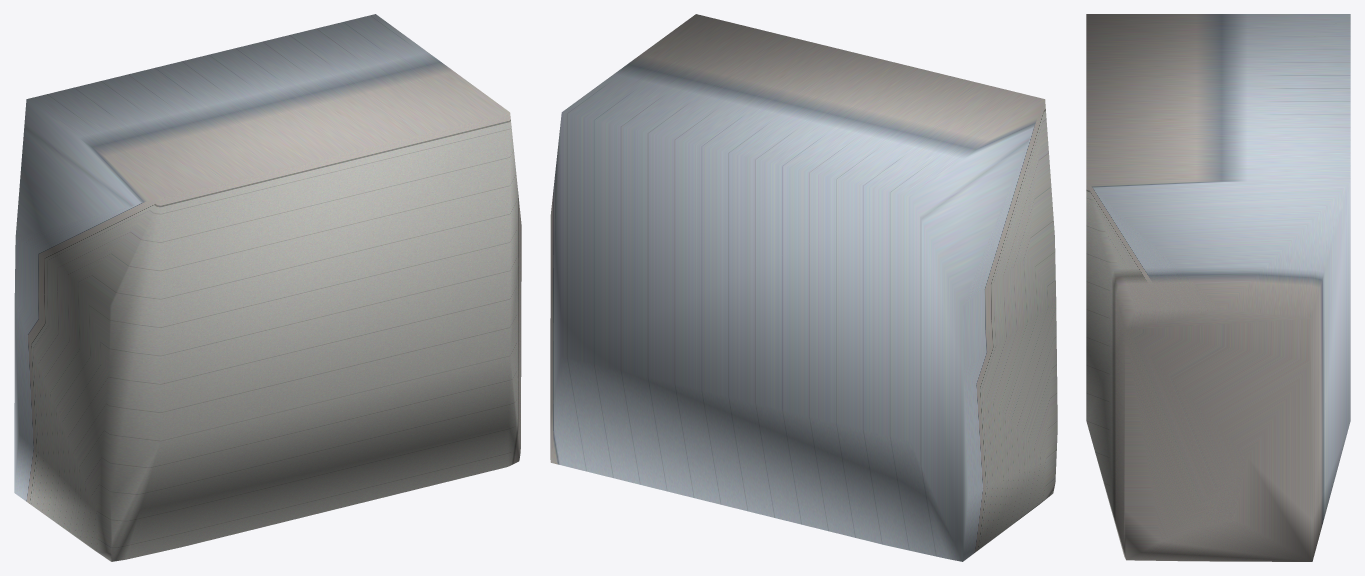
3 renders of one model, left to right at view 1: azimuth 30°, elevation 25°; view 2: azimuth 150°, elevation 25°; view 3: azimuth 270°, elevation 25°, orthographic.
Visible parts, largest first — view 1: Photogrammetry_Asset; view 2: Photogrammetry_Asset; view 3: Photogrammetry_Asset.
Part boxes in pixels (box(x1,y1,x2,y2)): Photogrammetry_Asset: box(14, 14, 521, 561); Photogrammetry_Asset: box(550, 14, 1057, 561); Photogrammetry_Asset: box(1086, 14, 1350, 561).
Size of the model in its own units: 0.3552 by 0.3065 by 0.2.
Materials: 1 (1 with a texture image).
